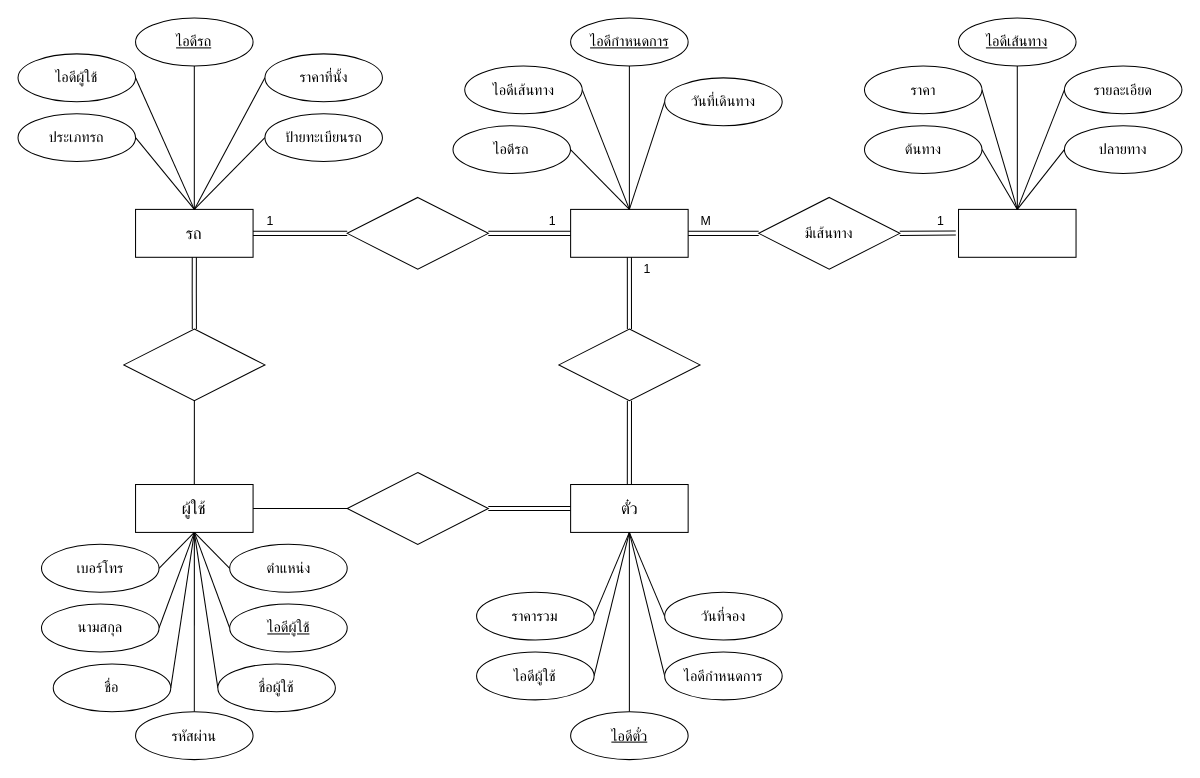
Image size: 1200x778. Some labels were removed from this diagram. The centre of each missing label's shape, as x and y in pixels:
กำหนดการ: (x=629, y=232)
จองตั๋ว: (x=417, y=508)
มีกำหนดการ: (x=629, y=364)
มีคนขับ: (x=194, y=364)
มีรถ: (x=417, y=232)
เส้นทาง: (x=1016, y=232)
